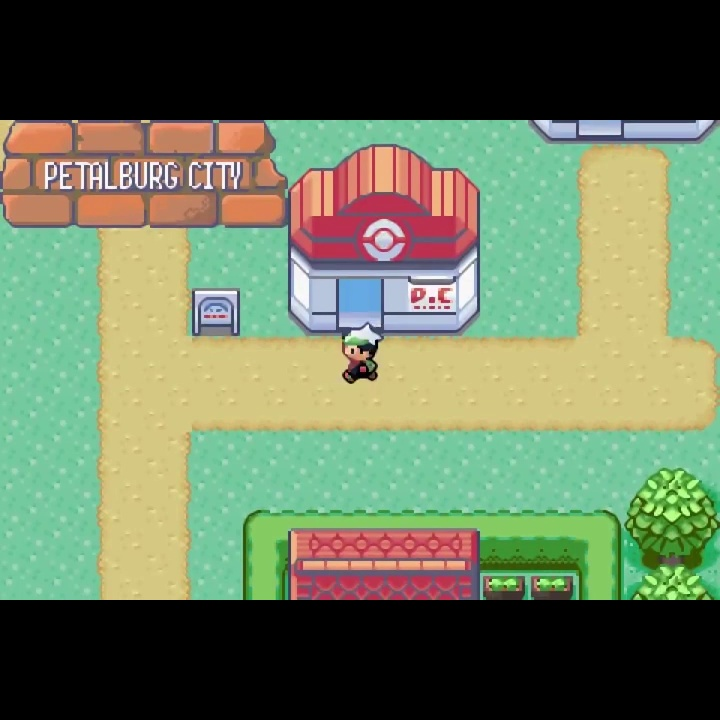npc: (338, 322, 383, 386)
pokecen: (288, 143, 484, 335)
wall: (623, 466, 720, 563), (623, 565, 720, 600)
